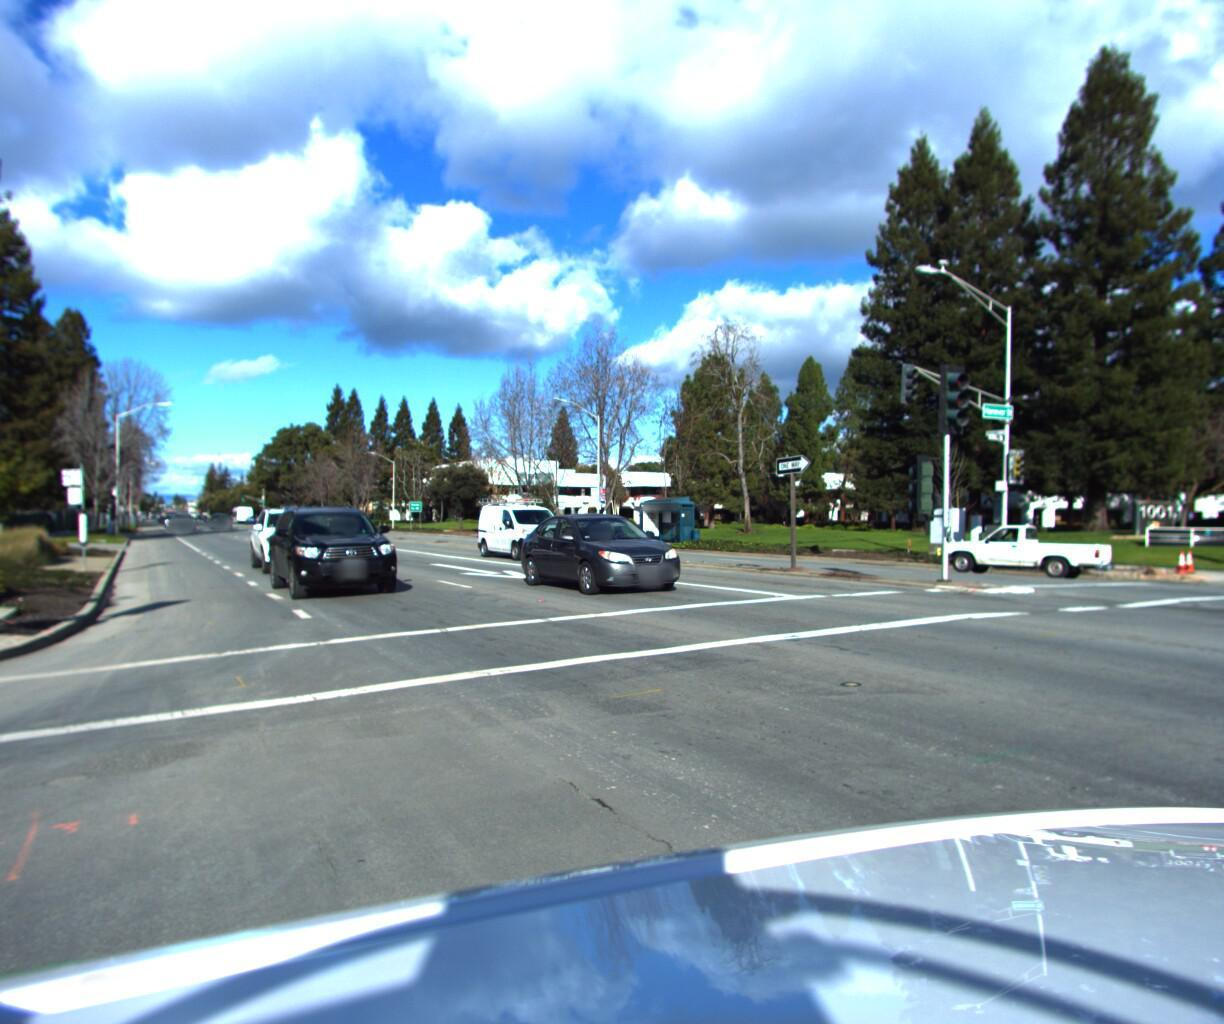car: (507, 502, 700, 601), (256, 494, 407, 600), (935, 516, 1118, 574), (240, 499, 346, 576), (467, 487, 572, 558)
